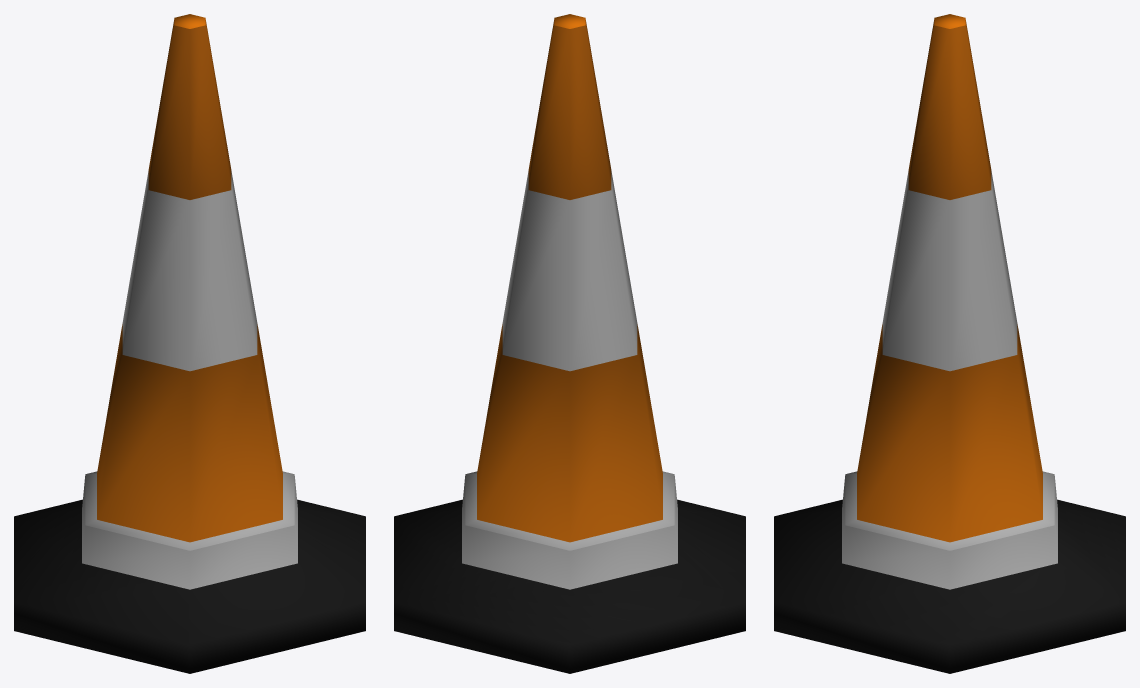
3 views of the same model, side by side, from view 1: azimuth 30°, elevation 25°; view 2: azimuth 150°, elevation 25°; view 3: azimuth 270°, elevation 25° (orthographic).
Parts seen in each view (by area): view 1: ConstructionCone; view 2: ConstructionCone; view 3: ConstructionCone.
Boxes of the visible parts, box(x1,y1,x2,y2) form: ConstructionCone: box(14, 14, 365, 673); ConstructionCone: box(394, 14, 745, 673); ConstructionCone: box(774, 14, 1125, 673).
Size of the model in its own units: 0.3249 by 0.5 by 0.2814.
